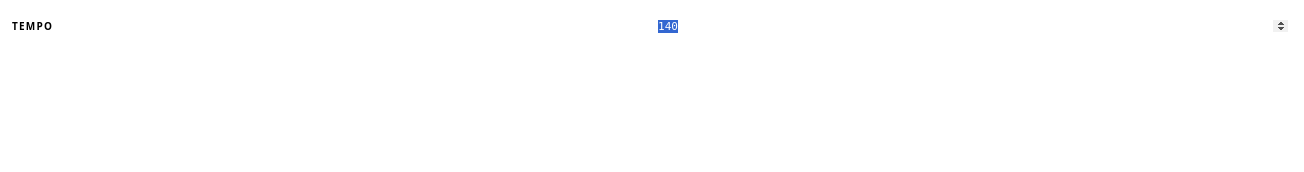
TempoInput › takes a typed tempo when the field is left, and none on Escape
Earlier steps of the test are not shown.
Replace the text in the number field named "Playlist tempo input" with "60": (676, 26) [59,12,1292,40]
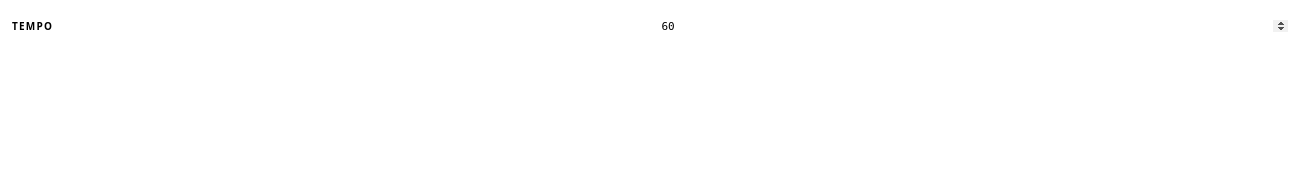
Press Escape in the number field named "Playlist tempo input", box [59,12,1292,40]
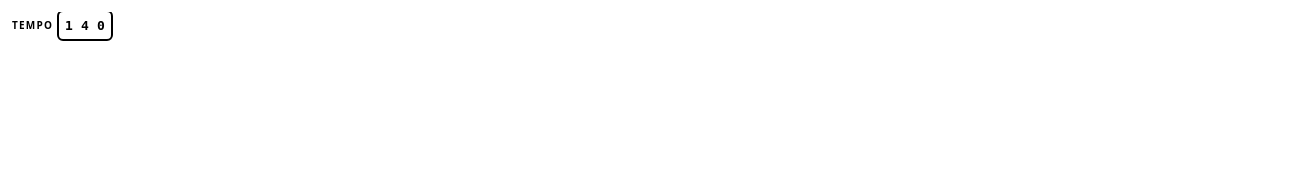
Now the number field labelled "Playlist tempo input" is gone
